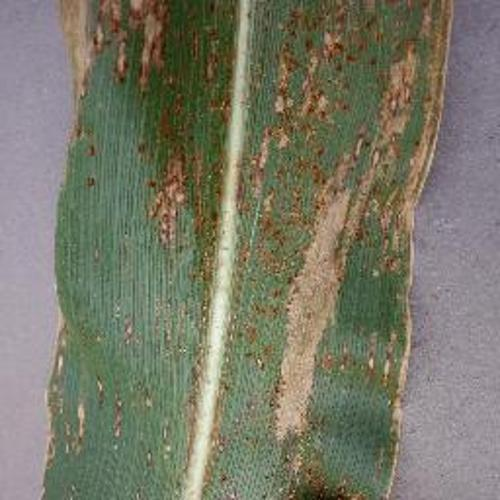Corn: (43, 0, 453, 500)
